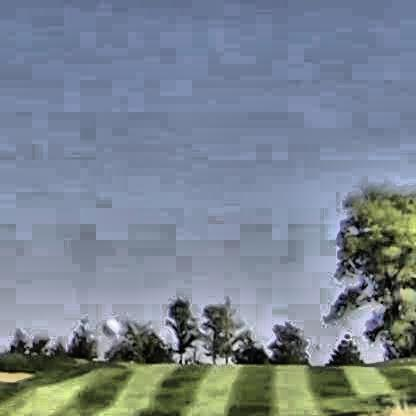golfball: (98, 315, 116, 336)
